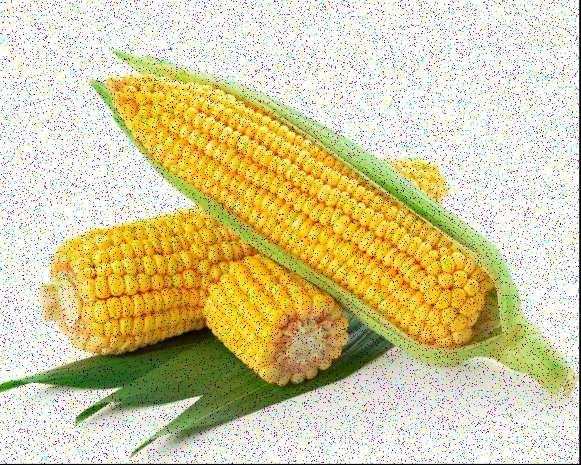corn: (116, 67, 545, 372), (57, 161, 449, 334)
